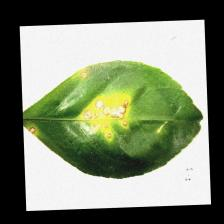canker: (29, 71, 138, 152)
